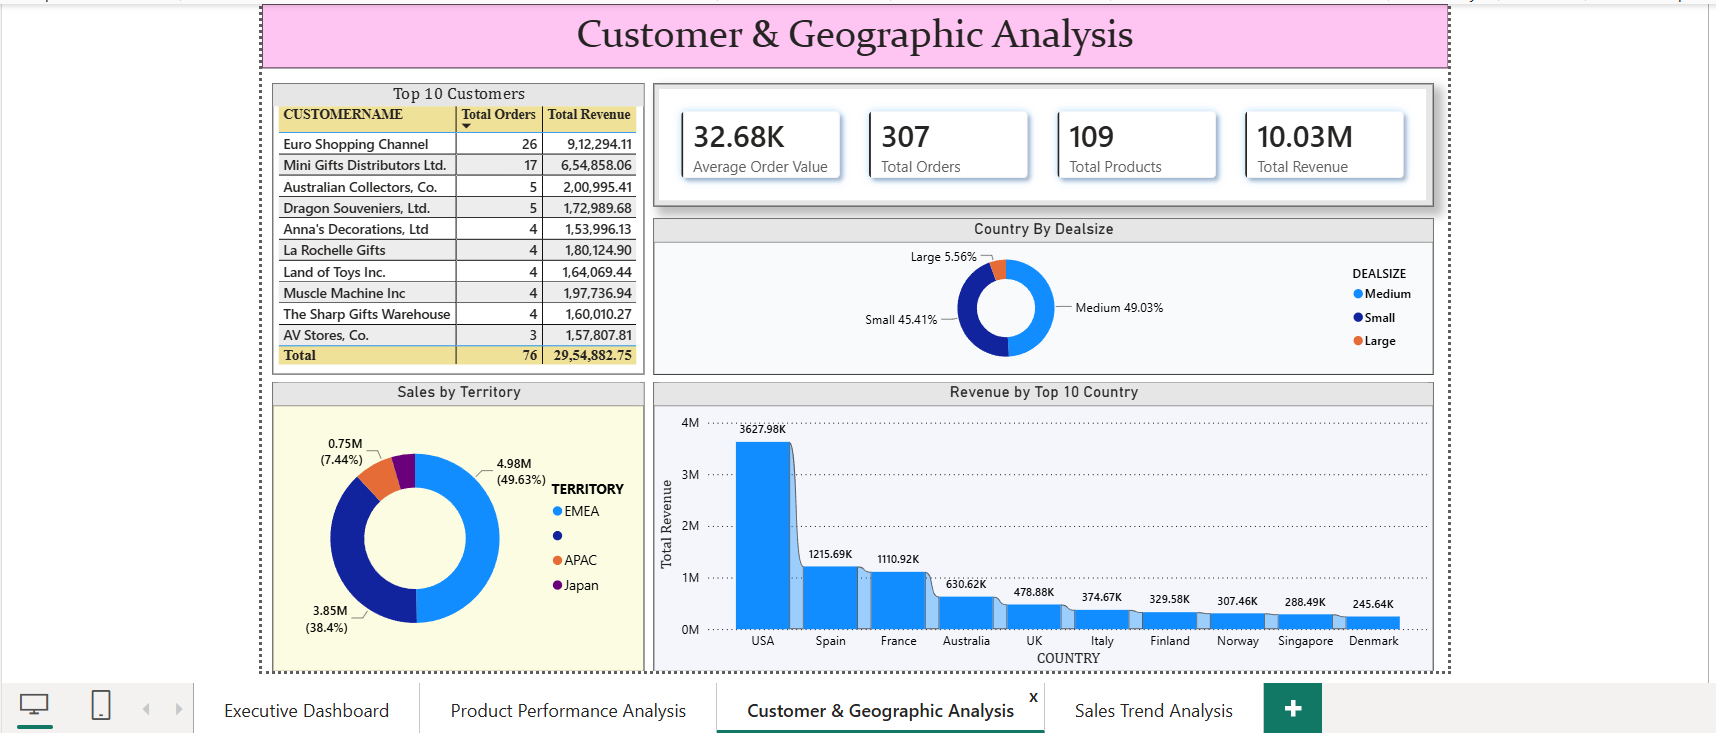

The page's visual inventory and layout, read from the dashboard file:
{"tool":"powerbi","page":{"name":"Customer & Geographic Analysis","canvas":[1280,720],"ordinal":2},"visuals":[{"type":"tableEx","title":"Top 10 Customers","fields":{"Values":["global_sales_cleaned.CUSTOMERNAME","global_sales_cleaned.Total Orders","global_sales_cleaned.Total Revenue"]},"box":[11.3,85.8,401.6,314.1],"z":0},{"type":"columnChart","title":"Revenue by Top 10 Country","fields":{"Category":["global_sales_cleaned.COUNTRY"],"Y":["global_sales_cleaned.Total Revenue"]},"box":[422.6,408,842,312.5],"z":1000},{"type":"textbox","box":[0,0,1280.8,69.6],"z":2000},{"type":"donutChart","title":"Sales by Territory","fields":{"Y":["Sum(global_sales_cleaned.SALES)"],"Category":["global_sales_cleaned.TERRITORY"]},"box":[11.3,408,401.6,312.5],"z":3000},{"type":"cardVisual","fields":{"Data":["global_sales_cleaned.Average Order Value","global_sales_cleaned.Total Orders","global_sales_cleaned.Total Products","global_sales_cleaned.Total Revenue"]},"box":[422.6,85.8,842,132.8],"z":4000},{"type":"donutChart","title":"Country By Dealsize","fields":{"Category":["global_sales_cleaned.DEALSIZE"],"Y":["CountNonNull(global_sales_cleaned.COUNTRY)"]},"box":[422.6,231.5,842,168.4],"z":5000}]}

Visuals, with their boxes on the page's 1280x720 design canvas (x1, y1, x2, y2). These are canvas units, not pixel positions in the 1716x733 screenshot, which may show the page scaled, cropped or inside an application window:
"Top 10 Customers" tableEx: {"left": 11, "top": 86, "right": 413, "bottom": 400}
"Revenue by Top 10 Country" columnChart: {"left": 423, "top": 408, "right": 1265, "bottom": 720}
textbox: {"left": 0, "top": 0, "right": 1281, "bottom": 70}
"Sales by Territory" donutChart: {"left": 11, "top": 408, "right": 413, "bottom": 720}
cardVisual - global_sales_cleaned.Average Order Value x global_sales_cleaned.Total Orders: {"left": 423, "top": 86, "right": 1265, "bottom": 219}
"Country By Dealsize" donutChart: {"left": 423, "top": 232, "right": 1265, "bottom": 400}
